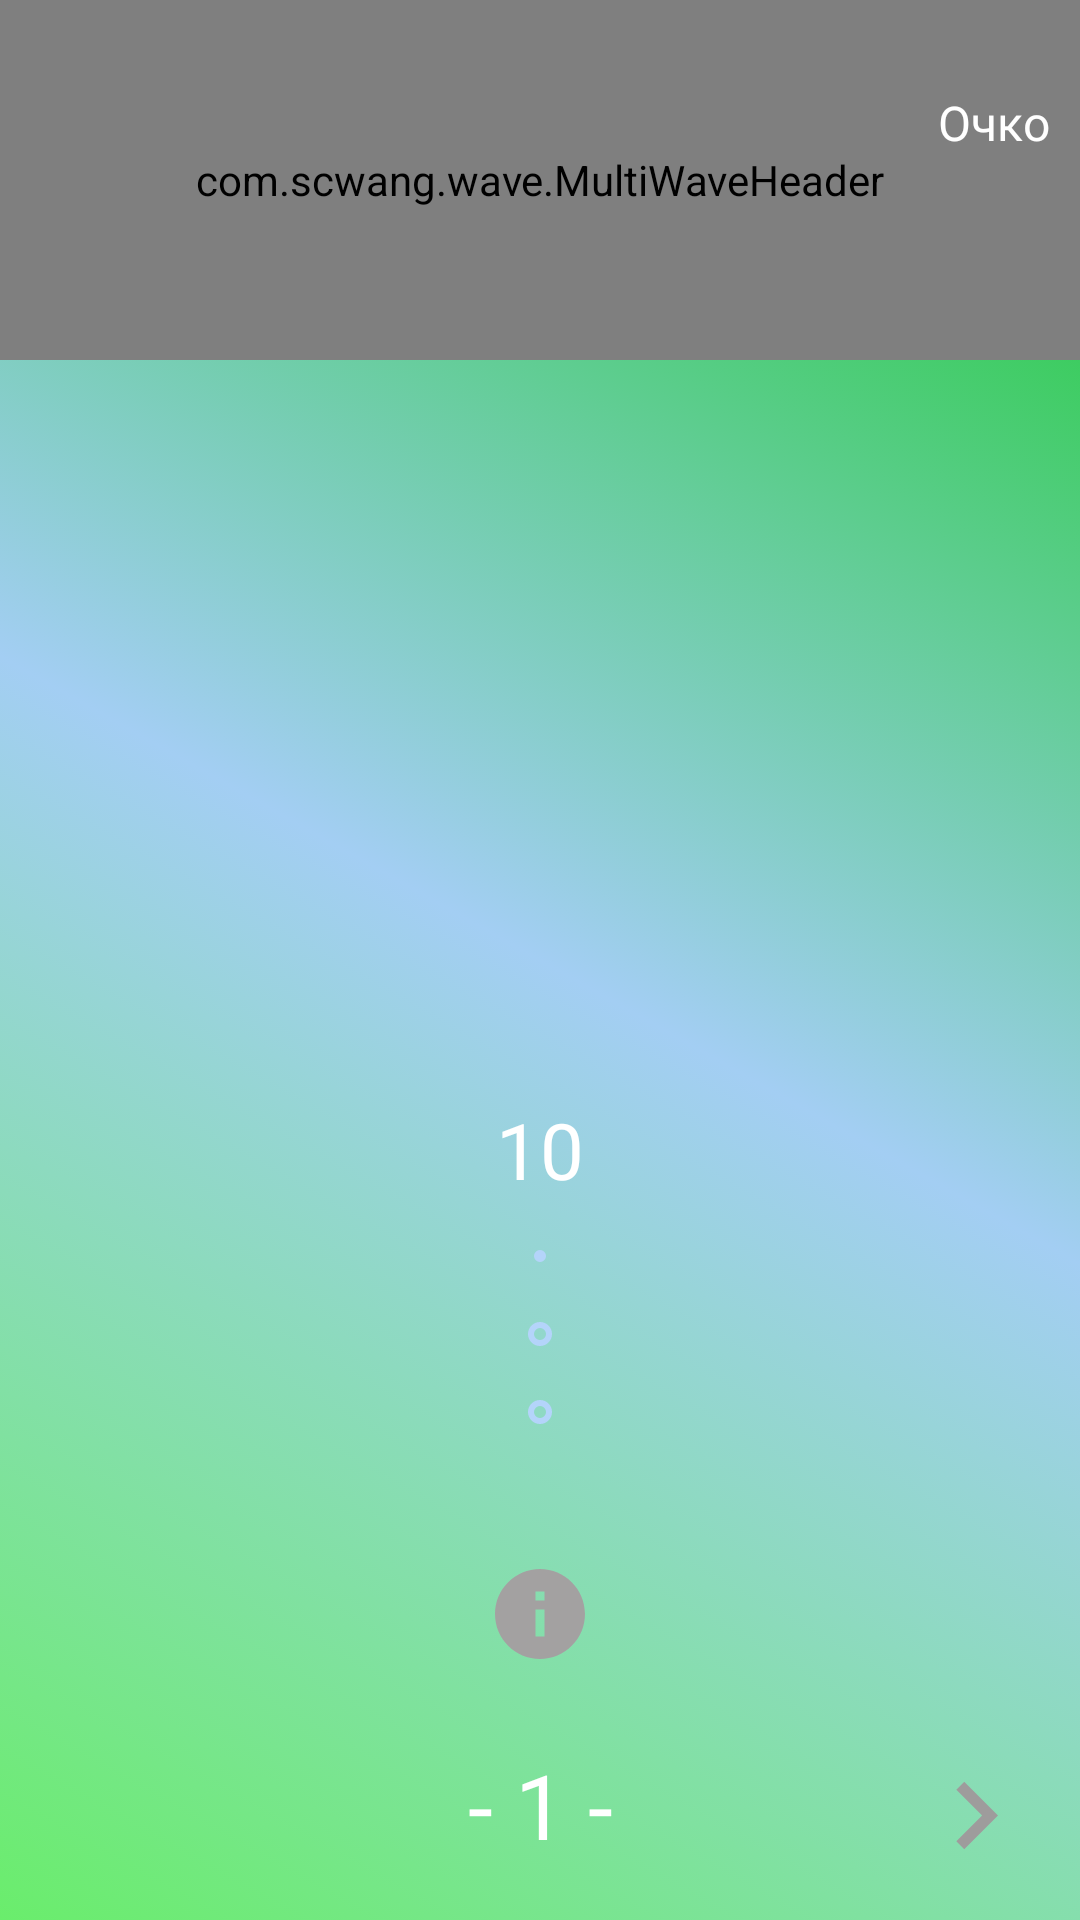

Where icons sit on this 1080px×1920px app screen, as (x1, y1, x2, y2):
info disable: (495, 1569, 585, 1659)
navigate next disable: (956, 1782, 998, 1849)
